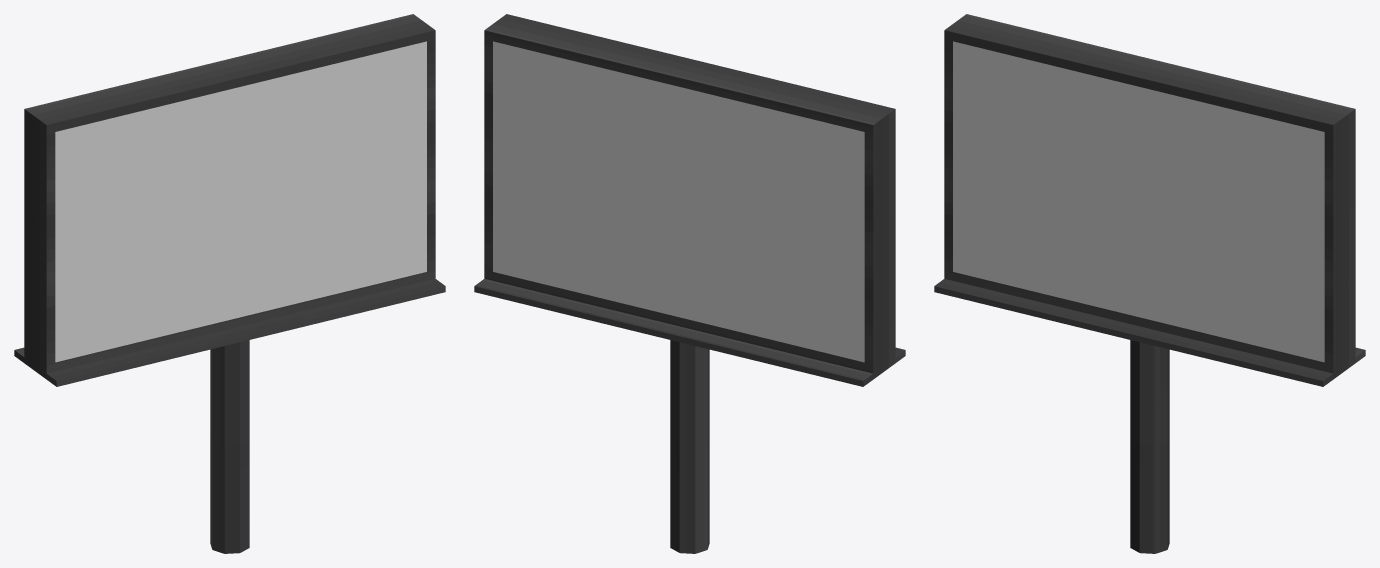
File: billboard.fbx
3 views of the same model, side by side, from view 1: azimuth 30°, elevation 25°; view 2: azimuth 150°, elevation 25°; view 3: azimuth 330°, elevation 25° (orthographic).
Visible parts, largest first — view 1: Billboard; view 2: Billboard; view 3: Billboard.
Part boxes in pixels (x1,y1,x2,y2): Billboard: (14, 14, 445, 553); Billboard: (474, 14, 905, 553); Billboard: (934, 14, 1365, 553).
Bounding box in the file's own units: 87.85 × 103 × 16.63.
